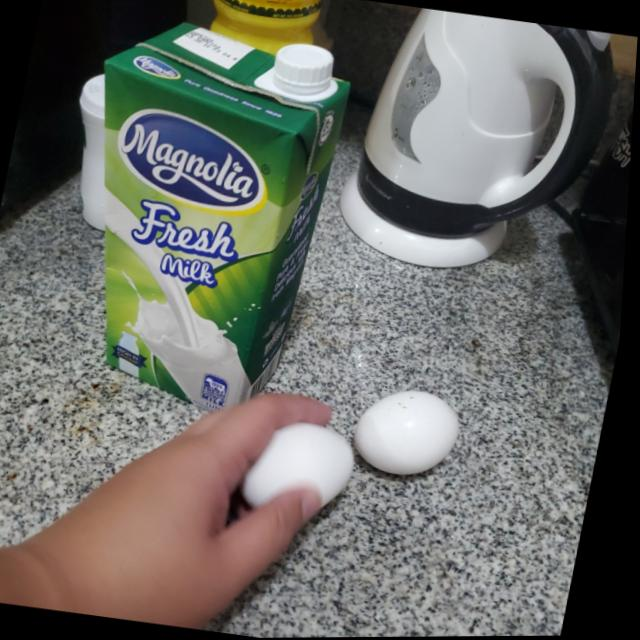egg: (242, 417, 367, 520), (351, 382, 476, 484)
milk: (44, 8, 361, 423)
